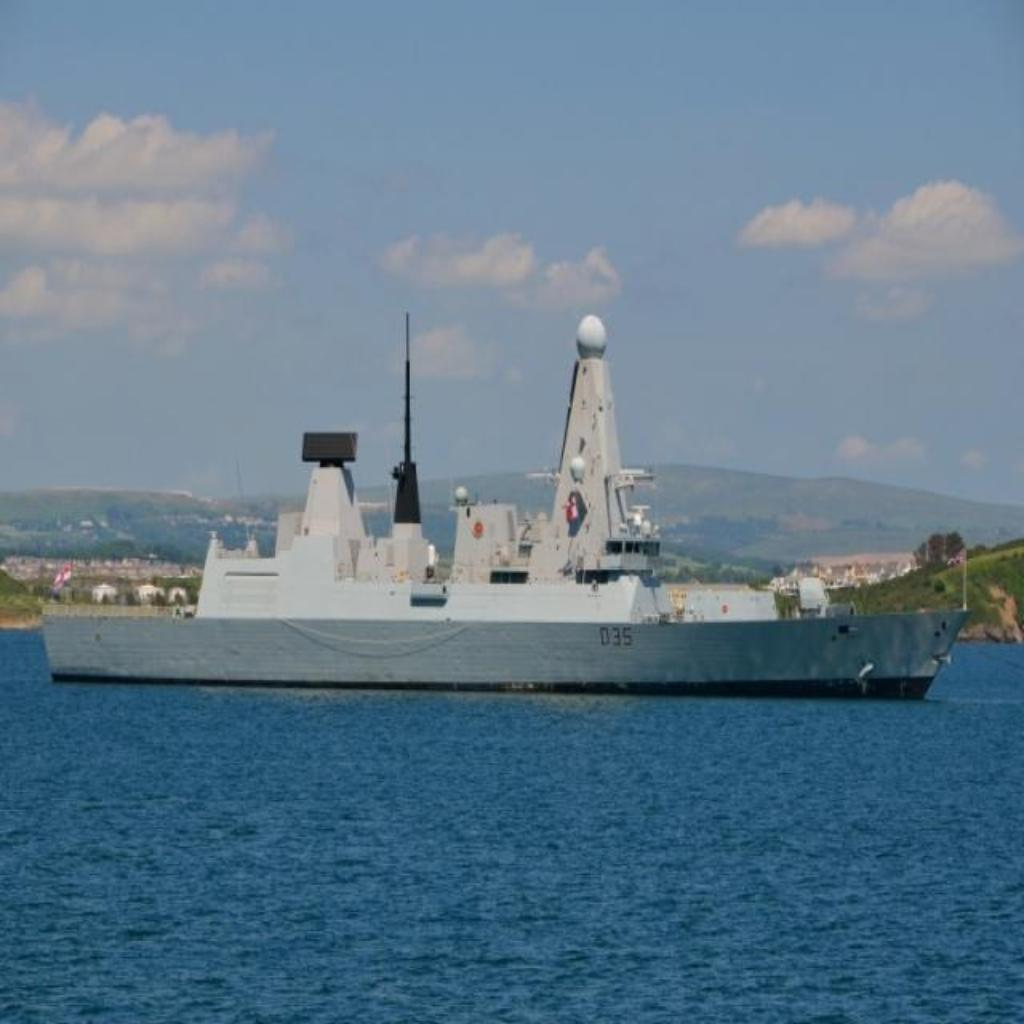Warship: (36, 284, 986, 704)
